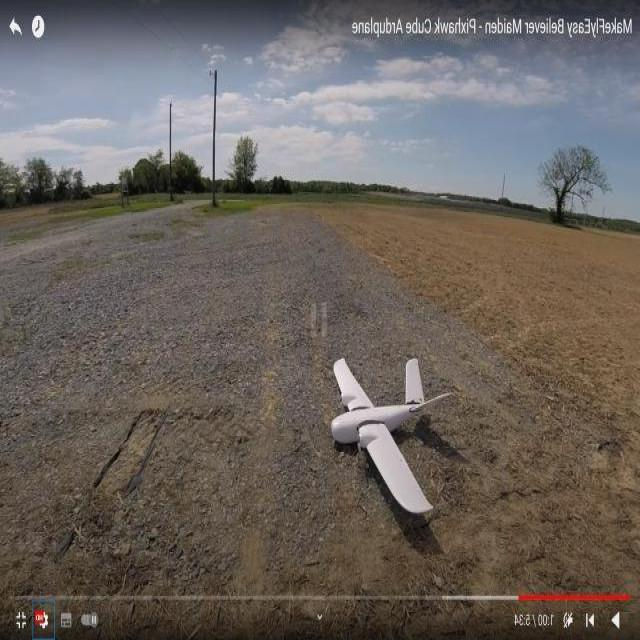iha: (355, 355, 417, 515)
